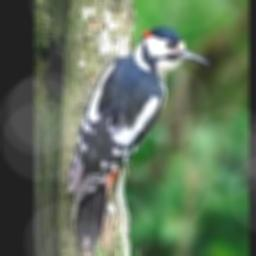Woodpecker: (67, 27, 209, 256)
